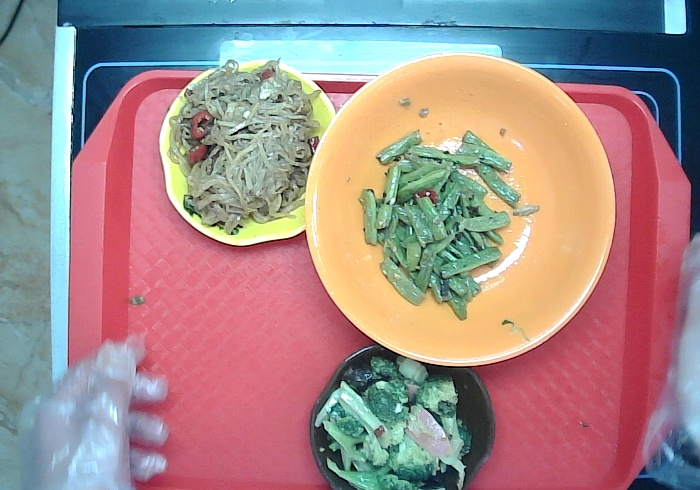YKMZ-Huang_Se_Ao_Bian_Wan: (155, 53, 344, 247)
YKMZ-Ju_Se_Tang_Wan: (299, 45, 618, 373)
YKMZ-Ka_Fei_Ao_Bian_Wan: (302, 339, 500, 488)
